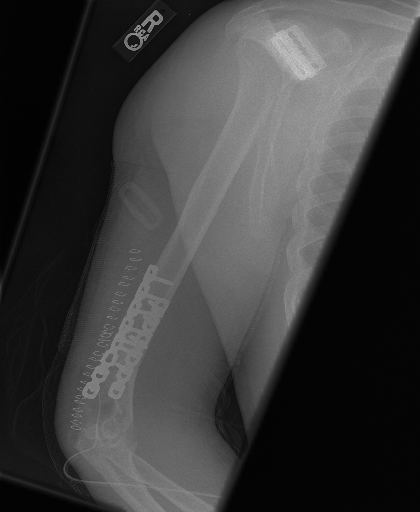implant: (85, 256, 181, 404), (261, 14, 328, 87)
